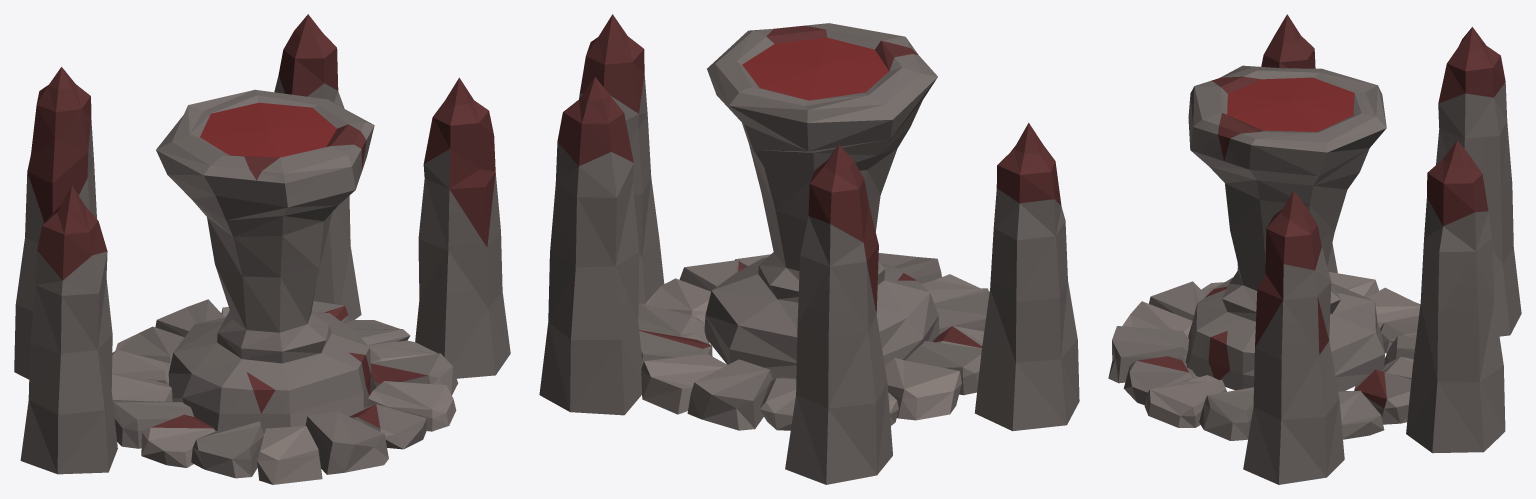
Rendered from bloodRitual.fbx.
The picture shows the model from 3 angles, left to right: view 1: azimuth 30°, elevation 25°; view 2: azimuth 150°, elevation 25°; view 3: azimuth 270°, elevation 25°; orthographic projection. The views are drawn at different scales.
Parts seen in each view (by area): view 1: bloodRitual; view 2: bloodRitual; view 3: bloodRitual.
Part boxes in pixels (x1,y1,x2,y2): bloodRitual: [14, 14, 510, 484]; bloodRitual: [539, 14, 1079, 484]; bloodRitual: [1108, 14, 1521, 484].
Bounding box in the file's own units: 2.35 × 1.42 × 1.81.
